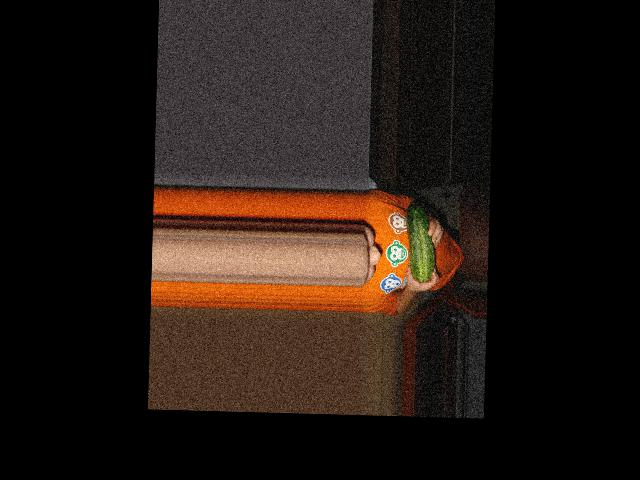cucumber: (404, 202, 436, 283)
